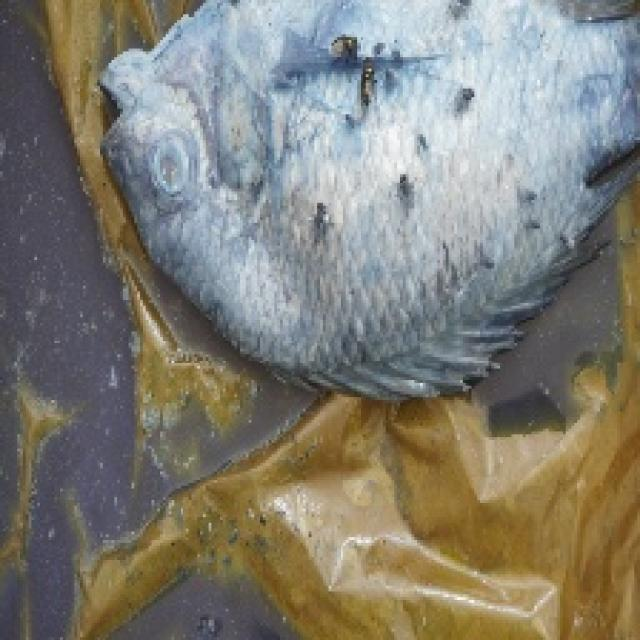Non-Fresh: (83, 0, 640, 349), (142, 122, 211, 205)
